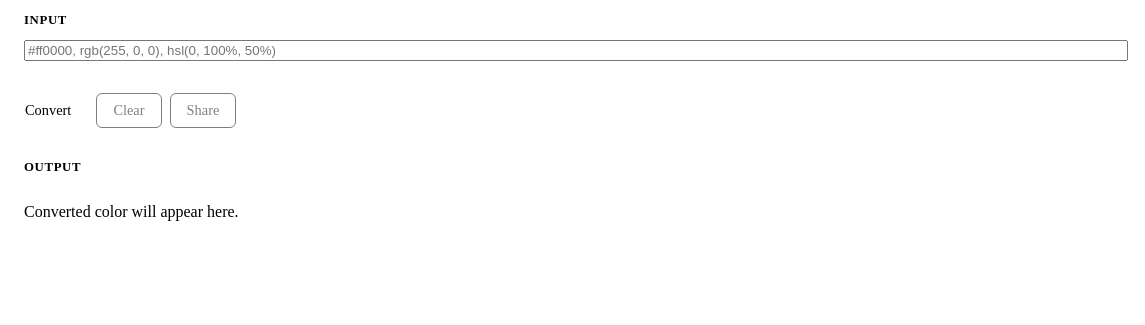
ColorConverterTool › clears input and output
In the field named "Color input": (576, 50) [24,40,1128,61], type "#fff"
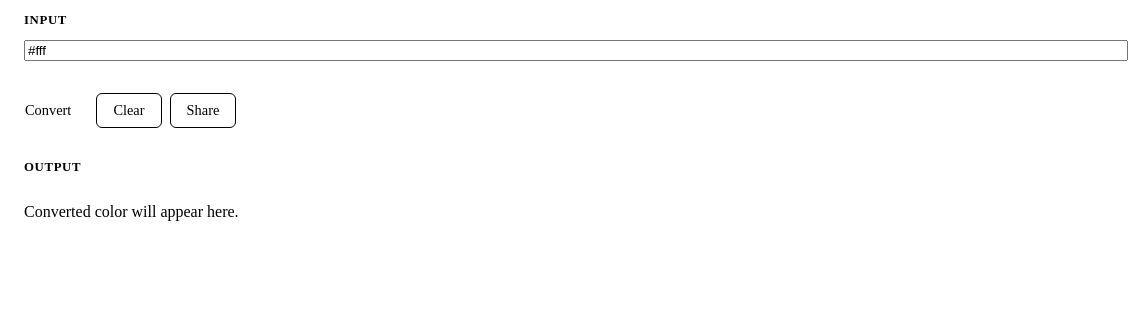
Click the button "Convert": (48, 110) [8,93,88,128]
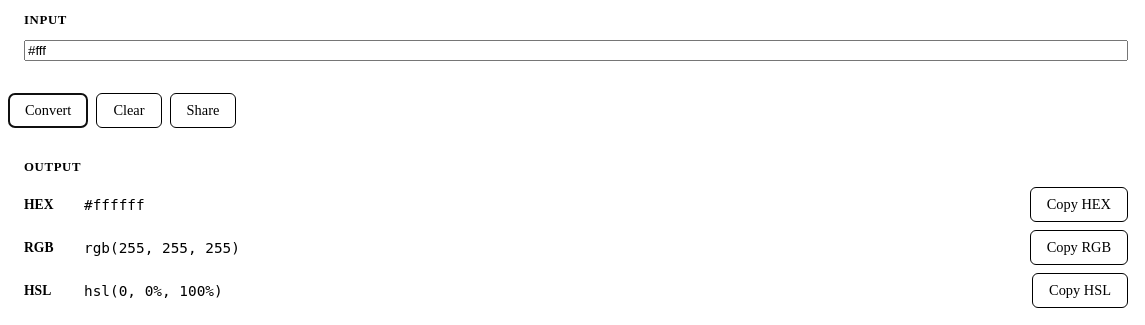
Result: the element with test id "color-output" is shown at [24,187,1128,308]
Click the button "Clear": (129, 110) [96,93,162,128]
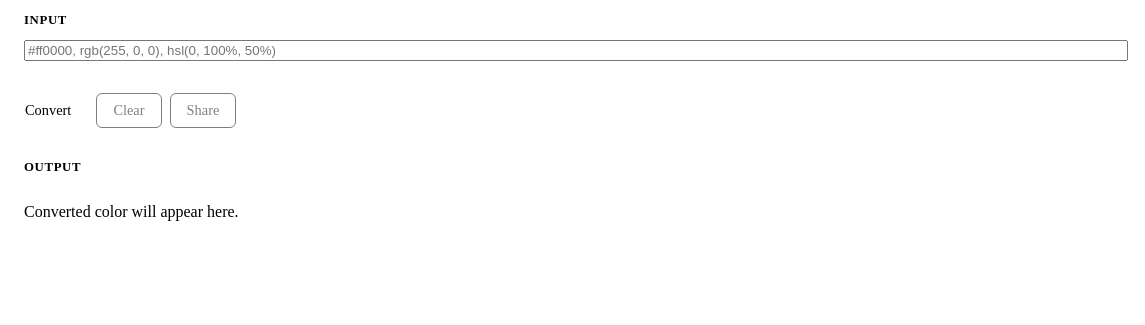
Result: the field named "Color input" is empty at [24,40,1128,61]
Result: the text "Converted color will appear here." is shown at [24,203,239,220]
